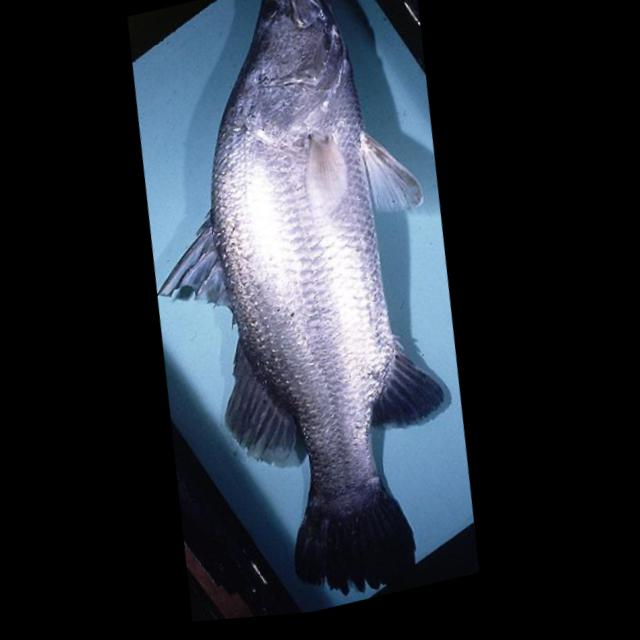Seabass: (95, 0, 500, 630)
